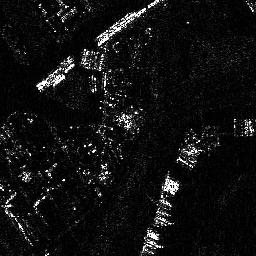ship: (95, 8, 140, 43), (36, 54, 74, 90)
